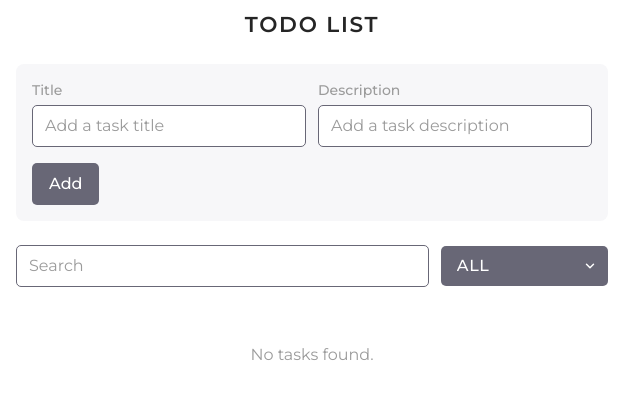
Test: App › shows validation error when submitting an empty title
Click the button "Add": (66, 184) [32,163,100,205]
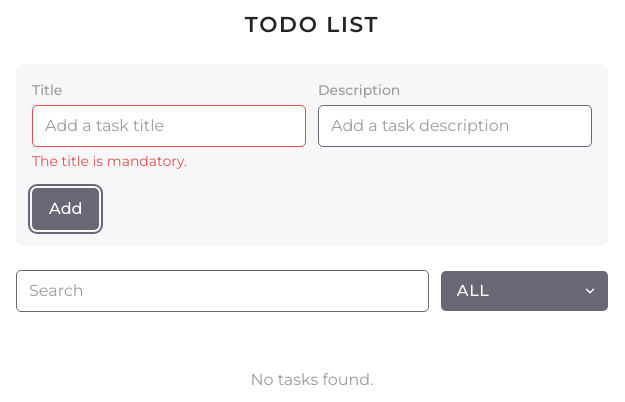
Result: the message reads "The title is mandatory." at [32,152,187,170]
